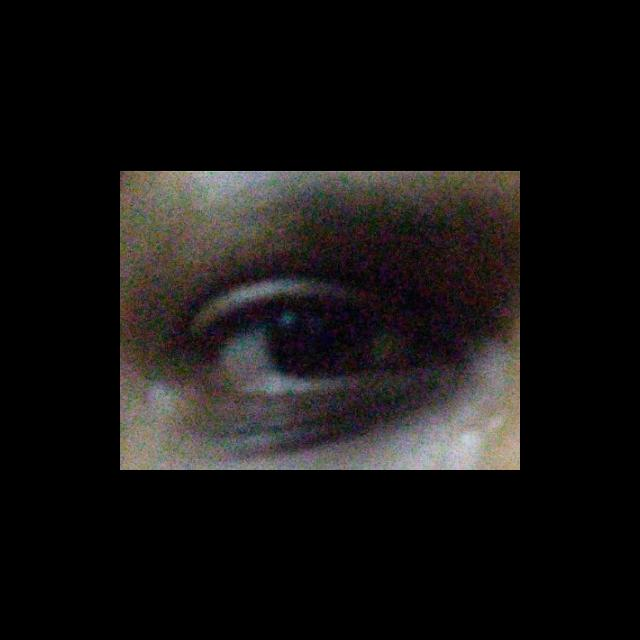eye: (214, 300, 424, 383)
iris: (268, 303, 373, 381)
